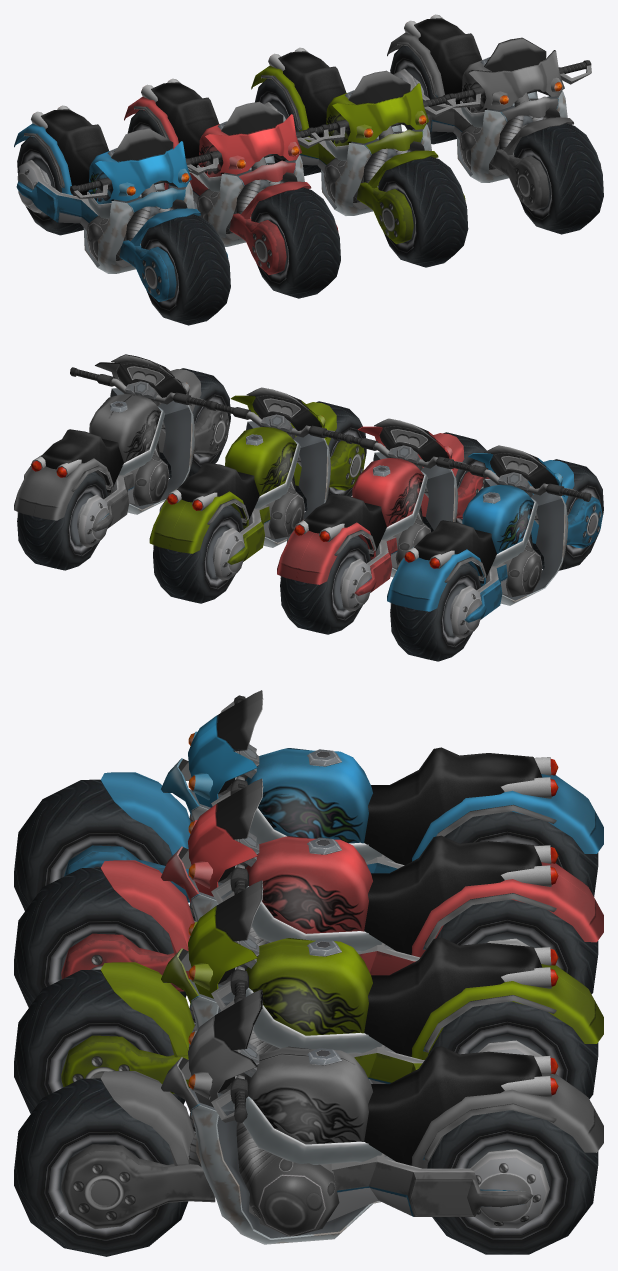
The model's file is Bike_04.fbx.
3 renders of one model, top to bottom at view 1: azimuth 30°, elevation 25°; view 2: azimuth 150°, elevation 25°; view 3: azimuth 270°, elevation 25°, orthographic. The views are drawn at different scales.
Visible parts, largest first — view 1: Body (×4), Handle (×4), Front_Wheel (×4), Back_Wheel1 (×4); view 2: Body (×4), Handle (×4), Back_Wheel1 (×4), Front_Wheel (×4); view 3: Body (×4), Handle (×4), Front_Wheel (×4), Back_Wheel1 (×4).
Boxes of the visible parts, box(x1,y1,x2,y2) form: Body (×4): box(14, 14, 567, 273); Handle (×4): box(70, 37, 601, 301); Front_Wheel (×4): box(141, 123, 603, 325); Back_Wheel1 (×4): box(17, 45, 456, 235); Body (×4): box(14, 386, 568, 638); Handle (×4): box(70, 354, 602, 548); Back_Wheel1 (×4): box(17, 471, 480, 661); Front_Wheel (×4): box(159, 368, 603, 570); Body (×4): box(161, 747, 603, 1244); Handle (×4): box(61, 690, 263, 1228); Front_Wheel (×4): box(14, 779, 187, 1256); Back_Wheel1 (×4): box(427, 811, 598, 1254).
Size of the model in its own units: 9.08 by 2.58 by 5.46.
2 materials, 2 textured.
